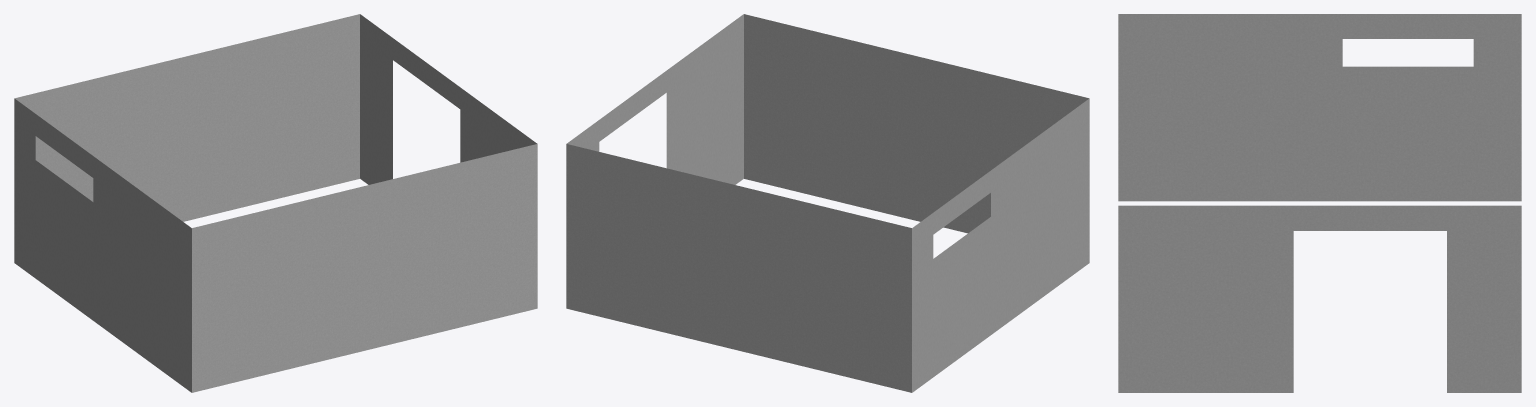
The model's file is Wall.fbx.
3 views of the same model, side by side, from view 1: azimuth 30°, elevation 25°; view 2: azimuth 150°, elevation 25°; view 3: azimuth 270°, elevation 25° (orthographic). The views are drawn at different scales.
Visible parts, largest first — view 1: Wall; view 2: Wall; view 3: Wall.
Boxes of the visible parts, x1,y1,x2,y2 form: Wall: [14, 14, 537, 392]; Wall: [566, 14, 1089, 392]; Wall: [1118, 14, 1521, 392].
Size of the model in its own units: 800 by 410 by 900.
1 material, 1 textured.
